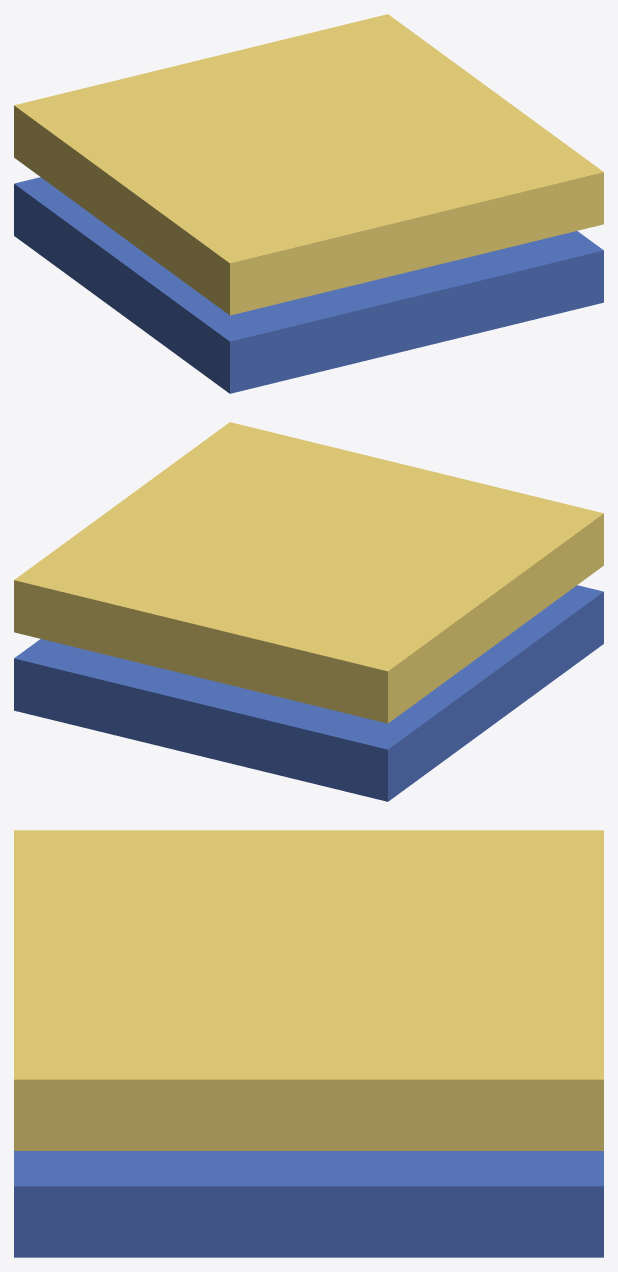
The model's file is egipcio_manga_sup.glb.
3 renders of one model, top to bottom at view 1: azimuth 30°, elevation 25°; view 2: azimuth 150°, elevation 25°; view 3: azimuth 270°, elevation 25°, orthographic. The views are drawn at different scales.
Parts seen in each view (by area): view 1: egipcio_manga_sup; view 2: egipcio_manga_sup; view 3: egipcio_manga_sup.
Boxes of the visible parts, x1,y1,x2,y2 form: egipcio_manga_sup: (14,14,603,393); egipcio_manga_sup: (14,422,603,801); egipcio_manga_sup: (14,830,603,1257).
Bounding box in the file's own units: 0.3 × 0.1 × 0.3.
